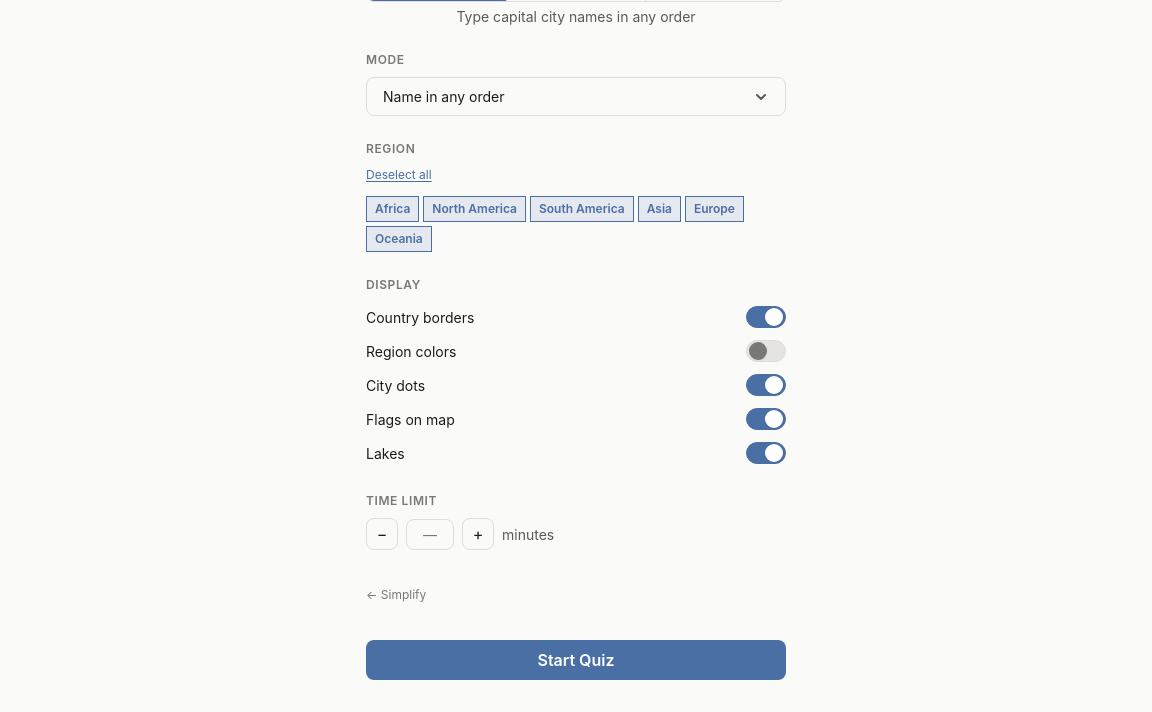
No answers leaked in active quiz DOM › World Capitals — Name in any order
(page scrolled)
Click the button "Start Quiz" at [576, 660], box [366,640,786,680]
(page scrolled)
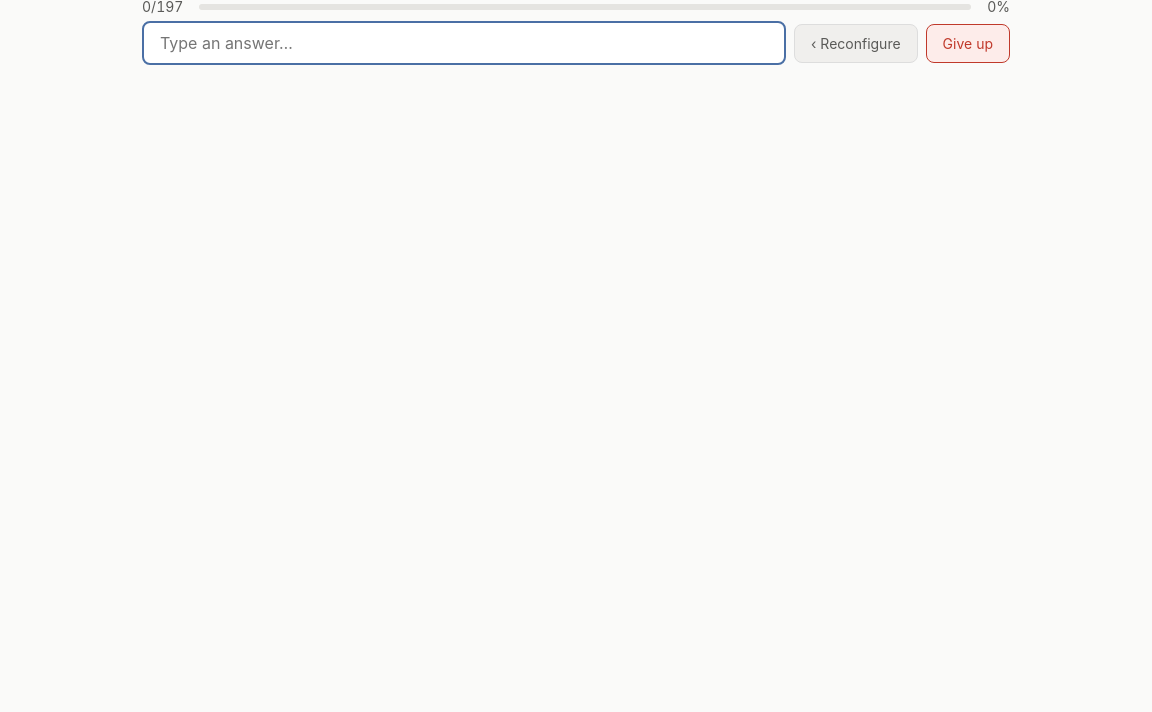
expect the button "‹ Reconfigure" is shown: met, box [794,24,918,62]
